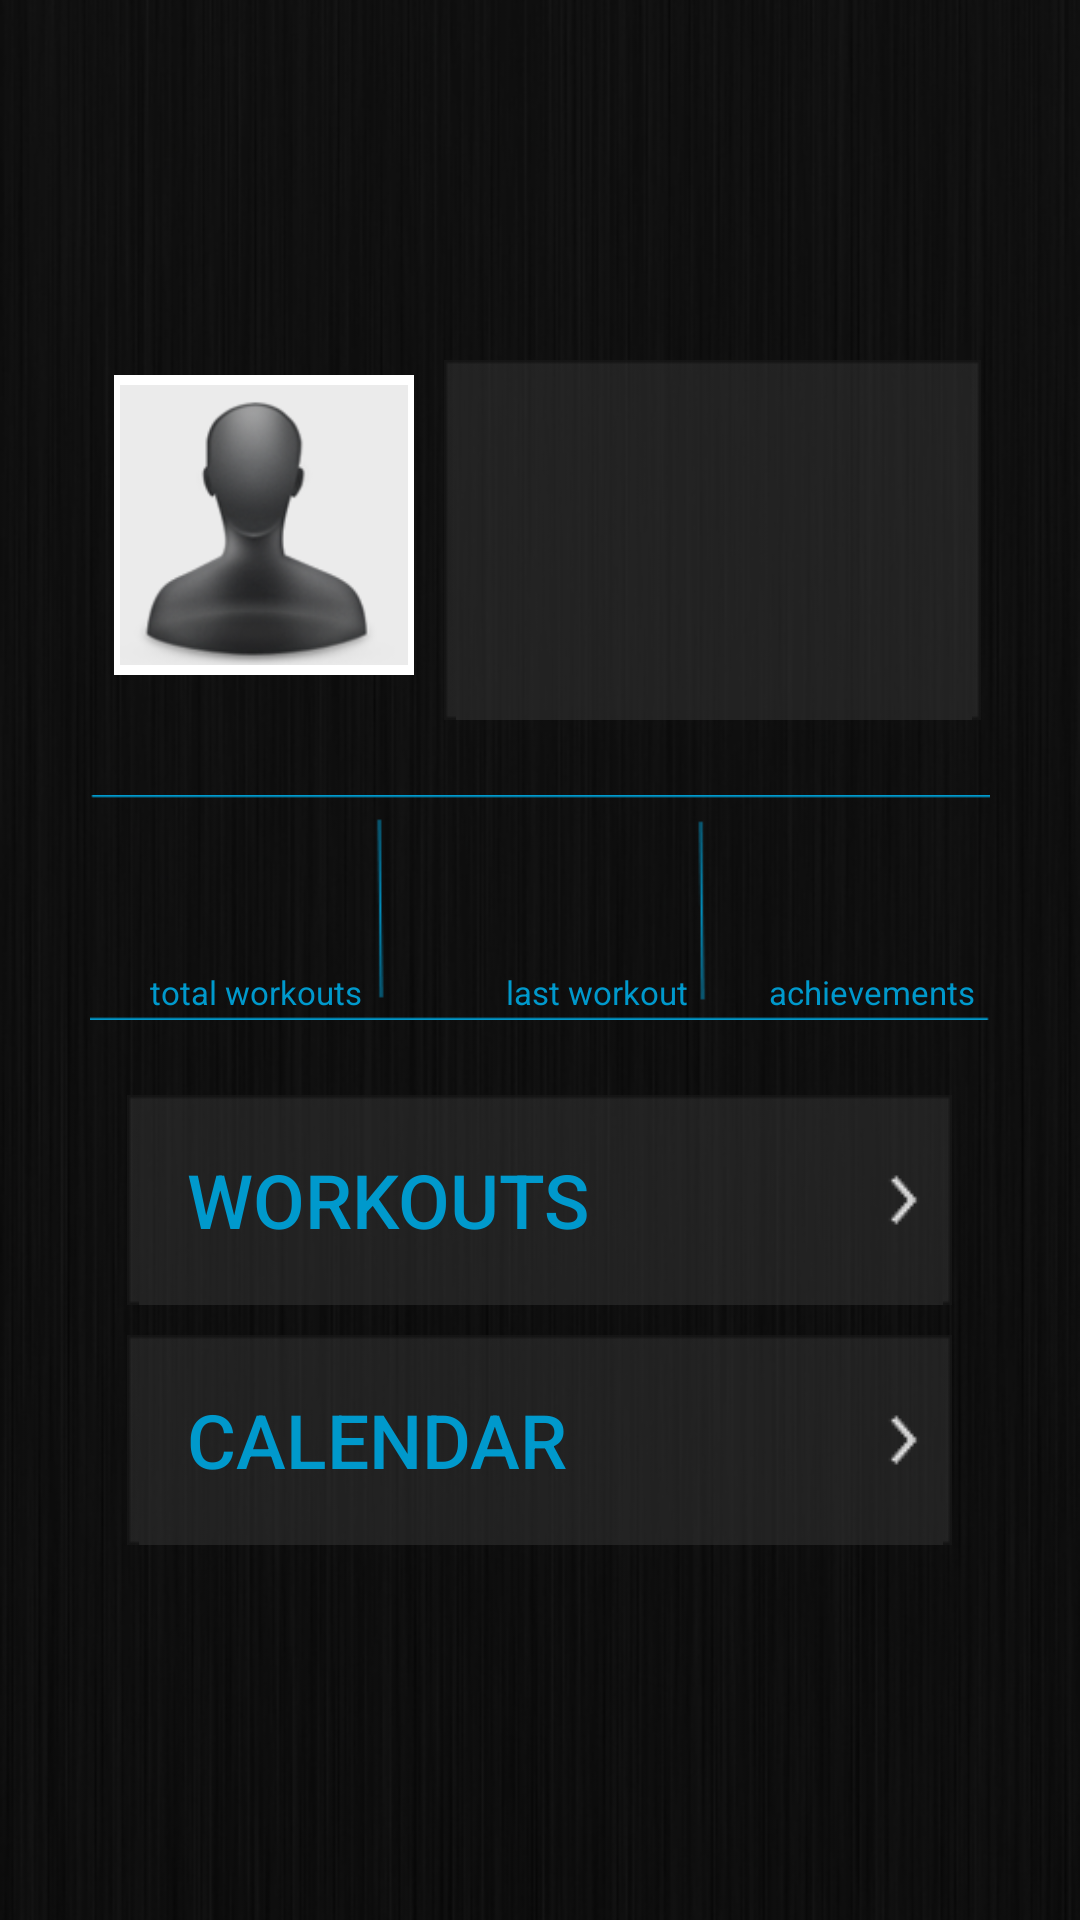

Icon bounding boxes for this 1080×1920 phone screenshot, format (x1, y1, x2, y2):
user pic: (114, 375, 414, 675)
